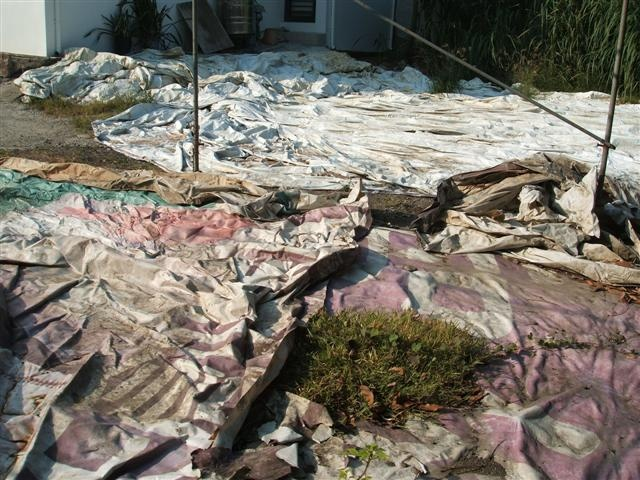plastic_bag: (1, 159, 367, 480), (366, 225, 640, 480), (200, 56, 640, 198), (428, 155, 640, 282), (15, 45, 193, 109)
water_tower: (219, 2, 260, 46)
